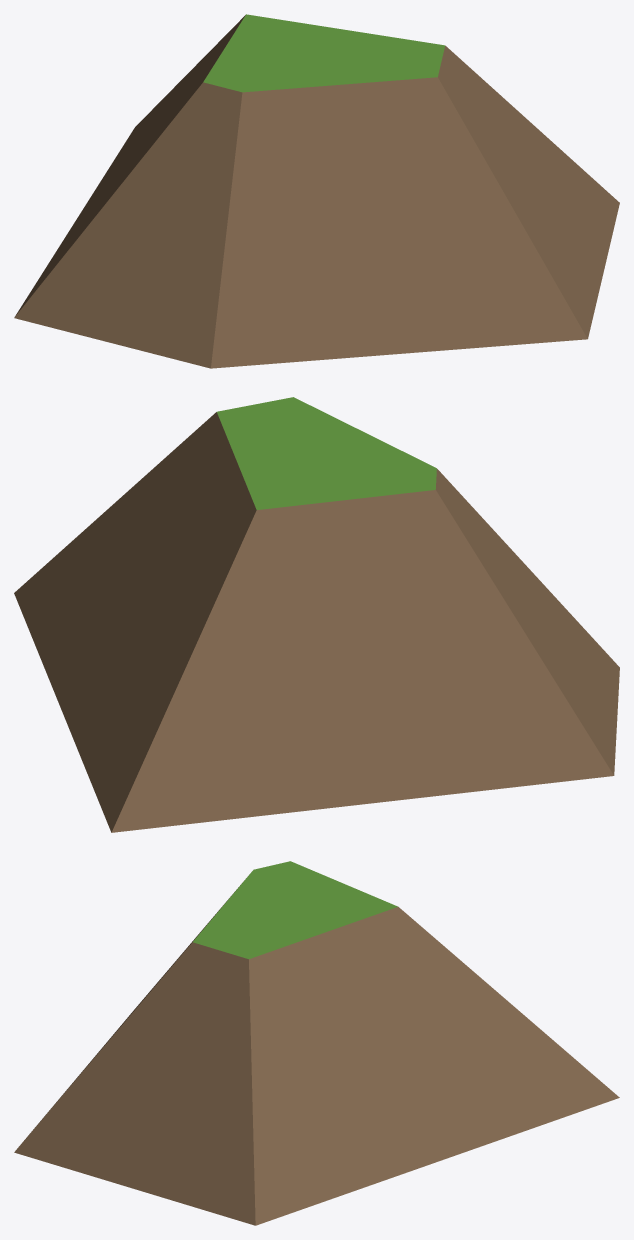
The model's file is rock_smallC.glb.
The picture shows the model from 3 angles, top to bottom: view 1: azimuth 30°, elevation 25°; view 2: azimuth 150°, elevation 25°; view 3: azimuth 270°, elevation 25°; orthographic projection. The views are drawn at different scales.
Visible parts, largest first — view 1: rock_smallC; view 2: rock_smallC; view 3: rock_smallC.
Boxes of the visible parts, x1,y1,x2,y2 form: rock_smallC: (14,14,619,368); rock_smallC: (14,397,619,832); rock_smallC: (14,861,619,1225).
Size of the model in its own units: 0.7216 by 0.2453 by 0.7216.
